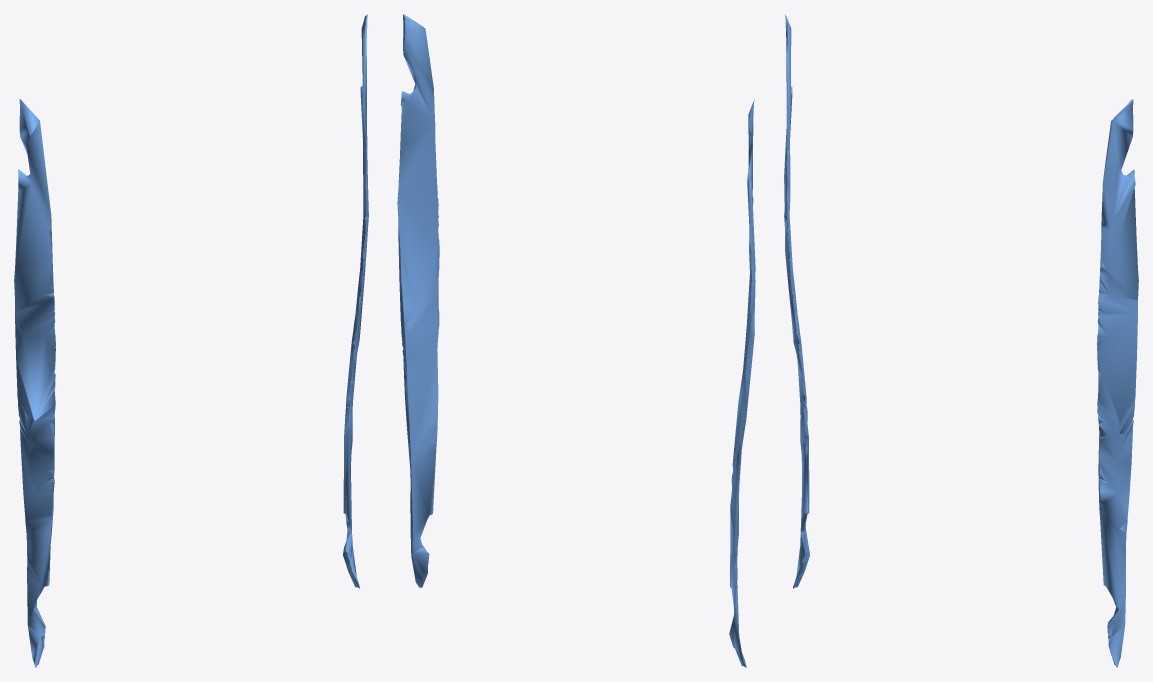
The model's file is supplement-knee-connective.glb.
3 views of the same model, side by side, from view 1: azimuth 30°, elevation 25°; view 2: azimuth 150°, elevation 25°; view 3: azimuth 330°, elevation 25° (orthographic).
Visible parts, largest first — view 1: supplemental:interosseous-membrane-of-leg:isa:FJ1392, supplemental:interosseous-membrane-of-leg:isa:FJ1392M; view 2: supplemental:interosseous-membrane-of-leg:isa:FJ1392M, supplemental:interosseous-membrane-of-leg:isa:FJ1392; view 3: supplemental:interosseous-membrane-of-leg:isa:FJ1392M, supplemental:interosseous-membrane-of-leg:isa:FJ1392.
Boxes of the visible parts, <box> form: supplemental:interosseous-membrane-of-leg:isa:FJ1392: <box>14,99,55,667</box>; supplemental:interosseous-membrane-of-leg:isa:FJ1392M: <box>343,14,368,588</box>; supplemental:interosseous-membrane-of-leg:isa:FJ1392M: <box>397,14,439,587</box>; supplemental:interosseous-membrane-of-leg:isa:FJ1392: <box>729,100,755,667</box>; supplemental:interosseous-membrane-of-leg:isa:FJ1392M: <box>1097,99,1138,667</box>; supplemental:interosseous-membrane-of-leg:isa:FJ1392: <box>784,14,809,588</box>.
Size of the model in its own units: 0.2069 by 0.3185 by 0.0237.
